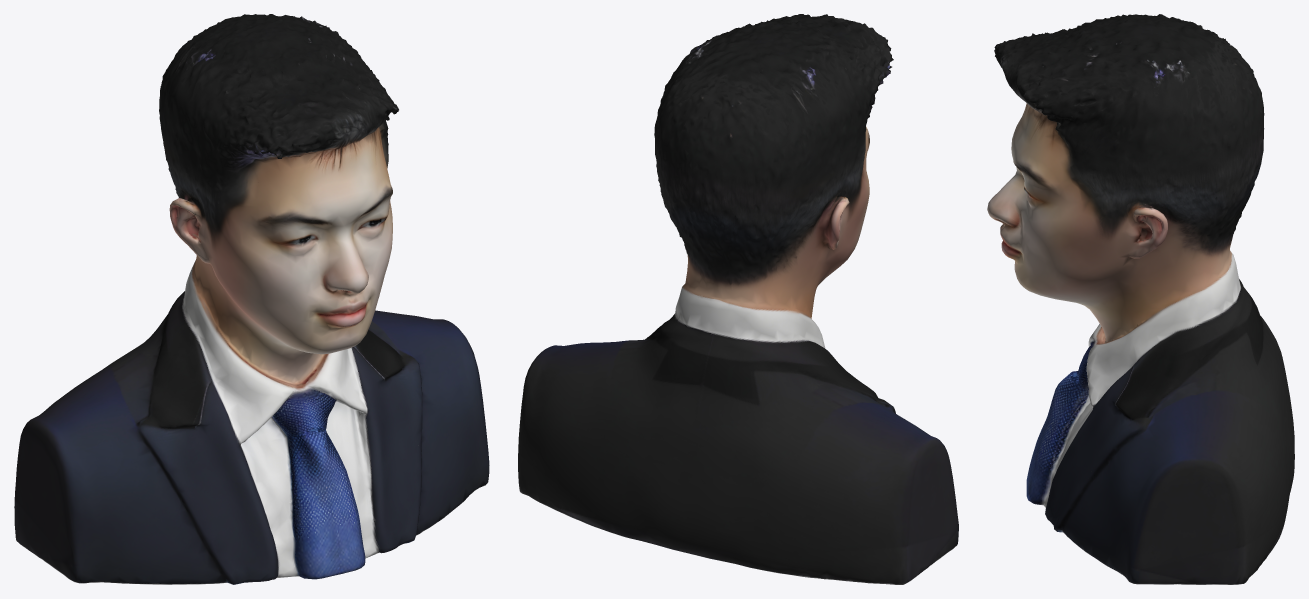
Rendered from 019a6e79-769b-751d-8766-1acbf3f146b6.glb.
3 renders of one model, left to right at view 1: azimuth 30°, elevation 25°; view 2: azimuth 150°, elevation 25°; view 3: azimuth 270°, elevation 25°, orthographic. The views are drawn at different scales.
Bounding box in the file's own units: 1.67 × 1.91 × 1.15.
1 material, 1 textured.
